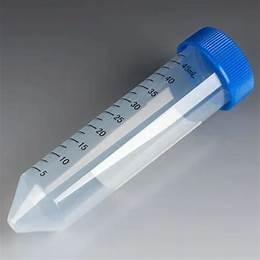Test tube: (20, 32, 249, 238)
